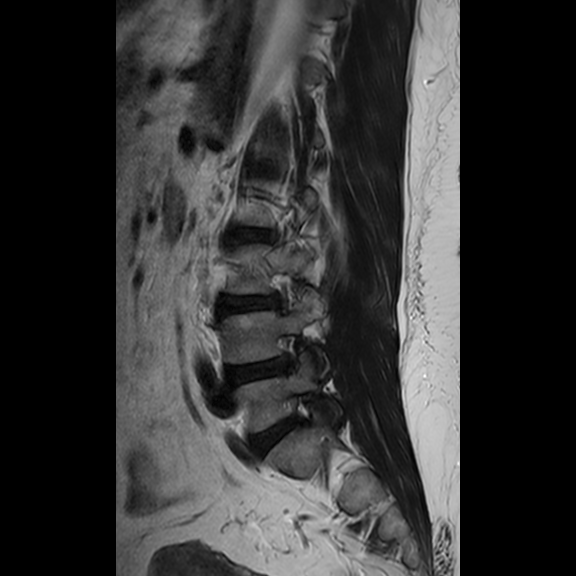LFS2: (269, 320, 307, 378)
